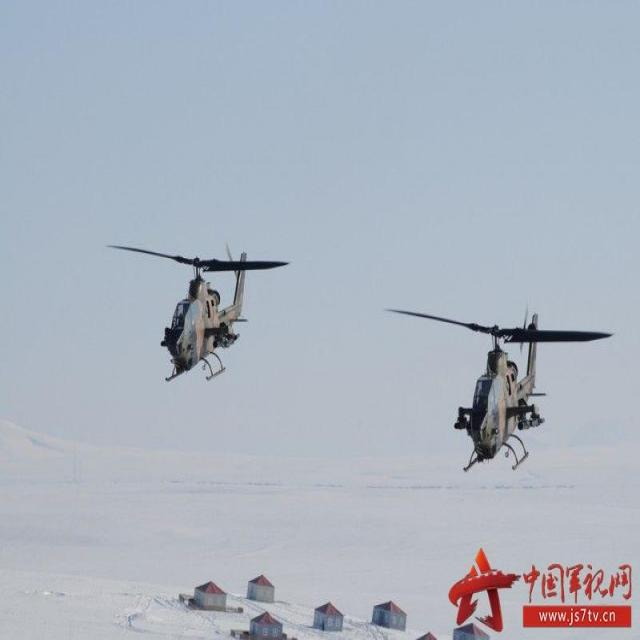MIL_HELO: (370, 289, 622, 480), (103, 225, 297, 388)
